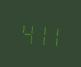four: (18, 18, 31, 46)
one: (33, 19, 46, 47), (47, 20, 60, 48)
